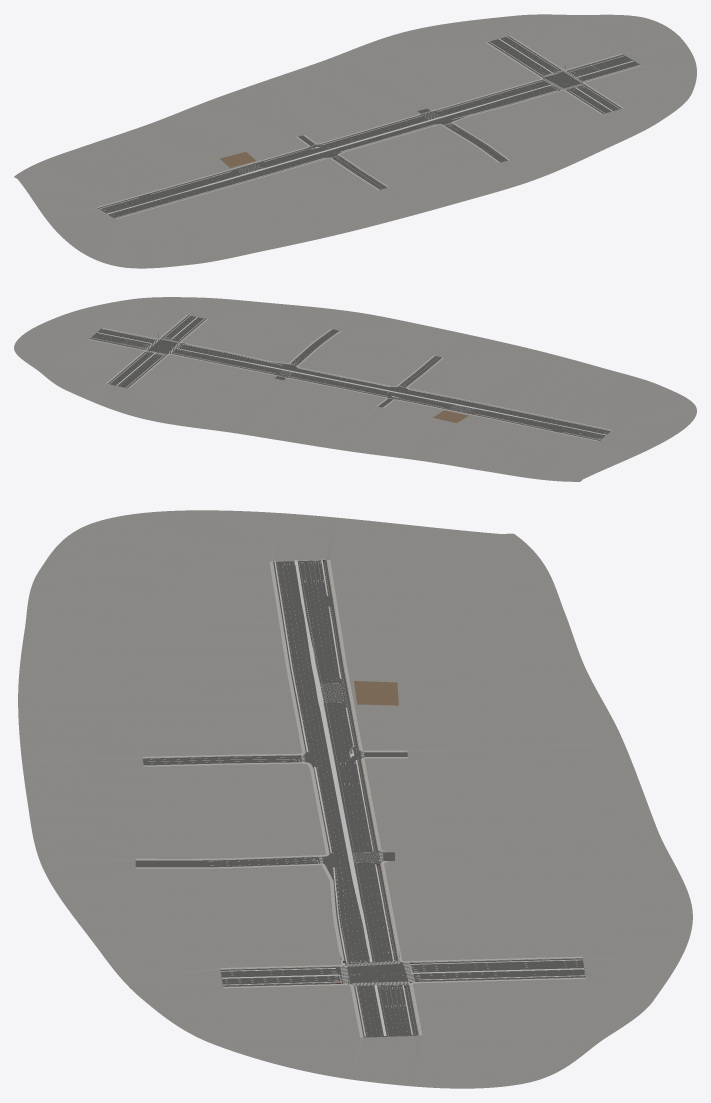
The model's file is SuzhouNorthStation.fbx.
3 views of the same model, one above another, from view 1: azimuth 30°, elevation 25°; view 2: azimuth 150°, elevation 25°; view 3: azimuth 270°, elevation 25° (orthographic). The views are drawn at different scales.
Parts seen in each view (by area): view 1: Terrain_Ground_Layer0, Roads_Road_Layer0, Roads_Sidewalk_Layer0, Roads_Uncategorized_Layer0, Roads_Curb_Layer0, Roads_Gutter_Layer0, Roads_Marking_Layer0; view 2: Terrain_Ground_Layer0, Roads_Road_Layer0, Roads_Sidewalk_Layer0, Roads_Uncategorized_Layer0, Roads_Gutter_Layer0, Roads_Curb_Layer0, Roads_Marking_Layer0; view 3: Terrain_Ground_Layer0, Roads_Road_Layer0, Roads_Sidewalk_Layer0, Roads_Uncategorized_Layer0, Roads_Curb_Layer0, Roads_Marking_Layer0, Roads_Gutter_Layer0.
Boxes of the visible parts, x1,y1,x2,y2 form: Terrain_Ground_Layer0: (14,14,696,268); Roads_Road_Layer0: (98,36,640,218); Roads_Sidewalk_Layer0: (97,35,641,219); Roads_Uncategorized_Layer0: (99,37,639,218); Roads_Curb_Layer0: (97,36,639,218); Roads_Gutter_Layer0: (98,36,635,218); Roads_Marking_Layer0: (98,56,617,215); Terrain_Ground_Layer0: (14,297,696,481); Roads_Road_Layer0: (90,315,611,440); Roads_Sidewalk_Layer0: (89,315,611,441); Roads_Uncategorized_Layer0: (93,316,610,439); Roads_Gutter_Layer0: (102,315,610,440); Roads_Curb_Layer0: (94,316,611,436); Roads_Marking_Layer0: (106,318,605,440); Terrain_Ground_Layer0: (18,510,692,1088); Roads_Road_Layer0: (135,560,585,1037); Roads_Sidewalk_Layer0: (135,560,585,1037); Roads_Uncategorized_Layer0: (221,559,584,1036); Roads_Curb_Layer0: (136,560,584,1036); Roads_Marking_Layer0: (148,560,584,1036); Roads_Gutter_Layer0: (137,560,582,1037).
Bounding box in the file's own units: 1007 × 497 × 9.7.
